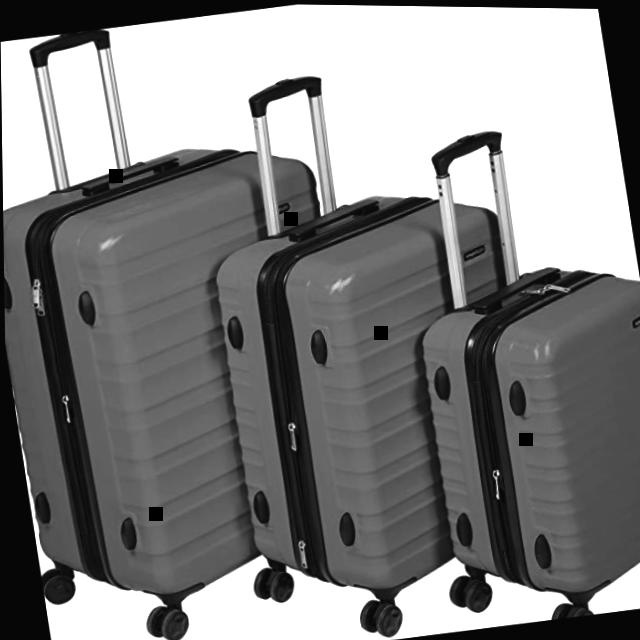luggage: (1, 119, 391, 640), (193, 166, 555, 625), (399, 244, 640, 624)
